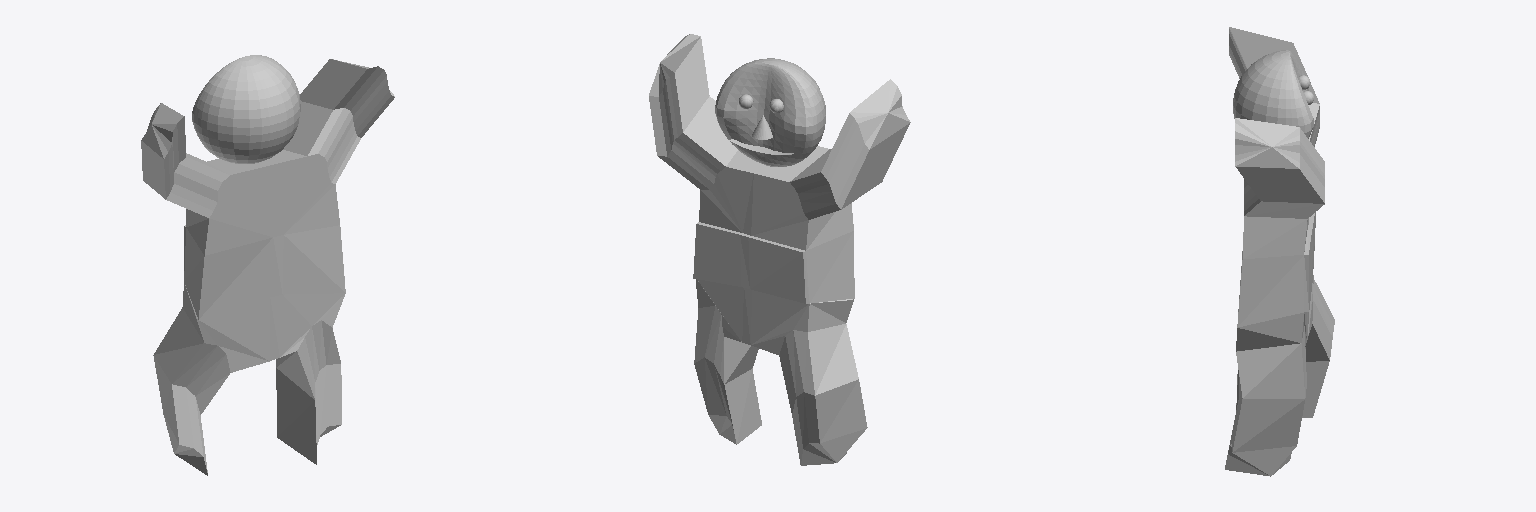
File: man_000028.obj
3 views of the same model, side by side, from view 1: azimuth 30°, elevation 25°; view 2: azimuth 150°, elevation 25°; view 3: azimuth 270°, elevation 25° (orthographic).
Parts seen in each view (by area): view 1: Cube; view 2: Cube; view 3: Cube.
Boxes of the visible parts, <box> form: Cube: <box>141,55,394,475</box>; Cube: <box>649,34,910,465</box>; Cube: <box>1225,27,1334,476</box>.
Bounding box in the file's own units: 79.08 × 127 × 32.37.